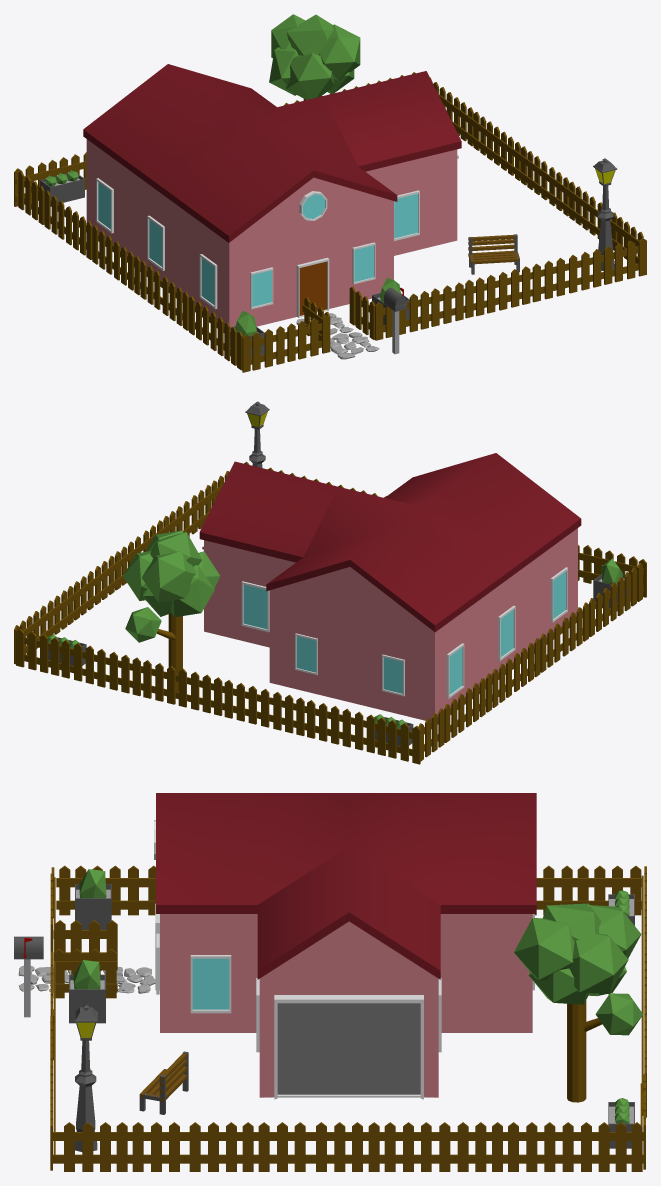
The model's file is eee12.fbx.
3 renders of one model, top to bottom at view 1: azimuth 30°, elevation 25°; view 2: azimuth 150°, elevation 25°; view 3: azimuth 270°, elevation 25°, orthographic. The views are drawn at different scales.
Visible parts, largest first — view 1: eee12; view 2: eee12; view 3: eee12.
Boxes of the visible parts, x1,y1,x2,y2 form: eee12: [14, 14, 646, 372]; eee12: [14, 401, 646, 764]; eee12: [14, 793, 646, 1171].
Bounding box in the file's own units: 25.08 × 9.22 × 25.9.
